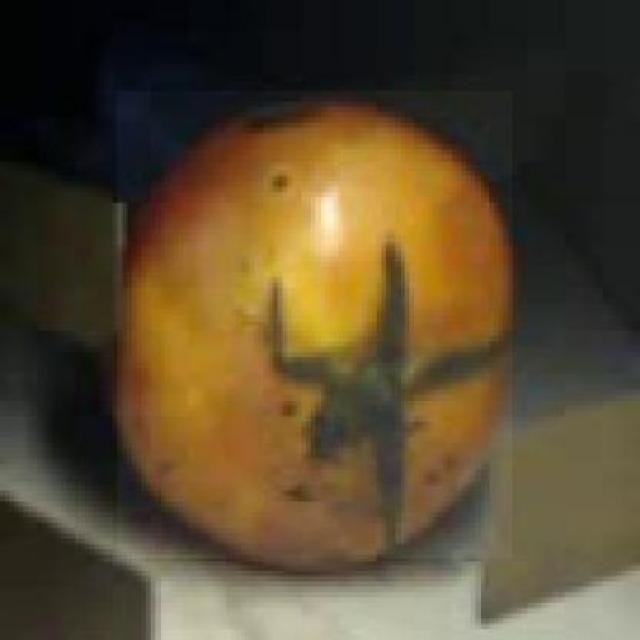tomato: (117, 102, 515, 563)
